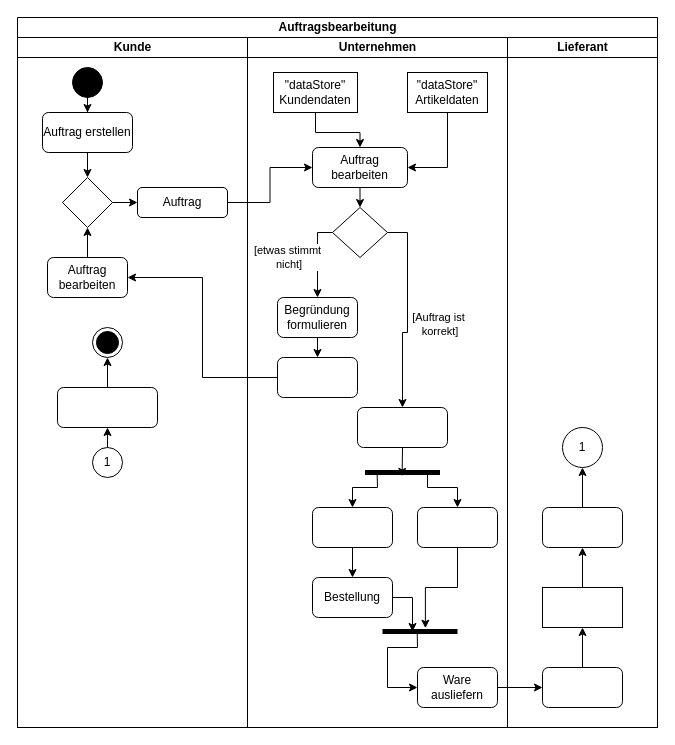
Some shapes in this 675 by 745 pixel diagram are drawn without their labels. Each missing label, with the centre of its shape:
Auftrag annehmen: (402,427)
Begründung senden: (317,377)
Bestellung abwickeln: (352,527)
Produkt erstellen: (457,527)
Ware: (582,607)
Ware annehmen: (582,687)
Ware erhalten: (107,407)
Ware liefern: (582,527)
